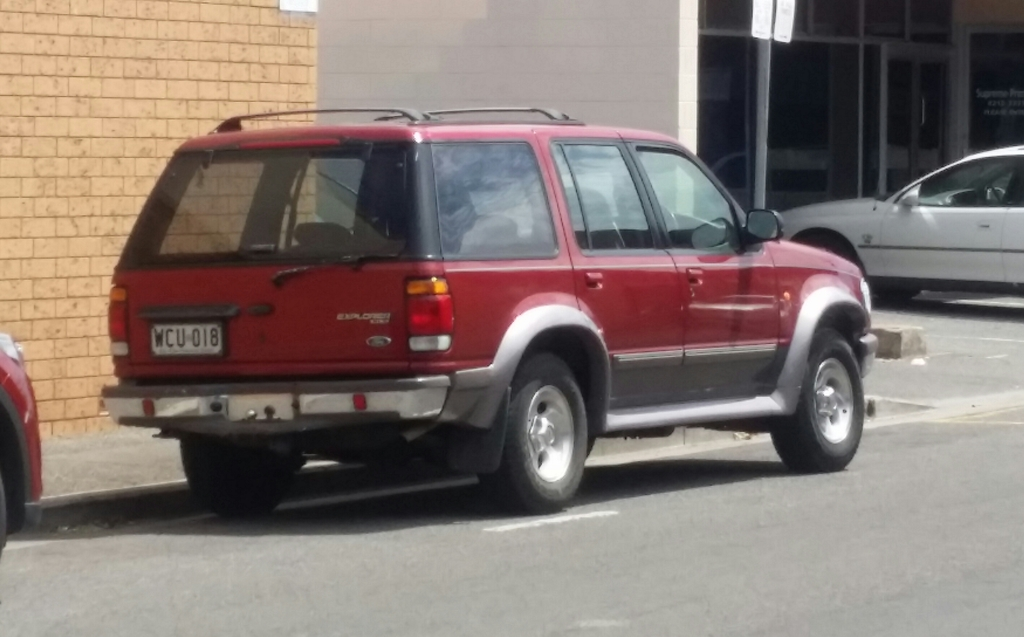cars: (99, 107, 879, 517), (771, 139, 1023, 302)
